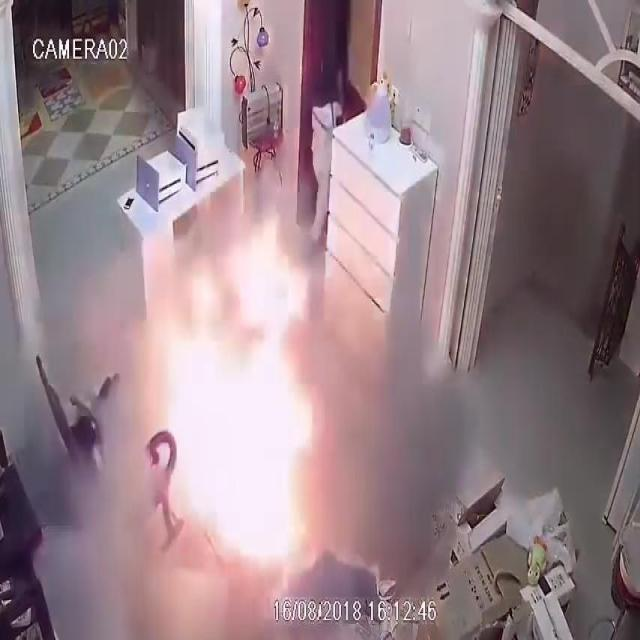fire: (162, 211, 312, 560)
